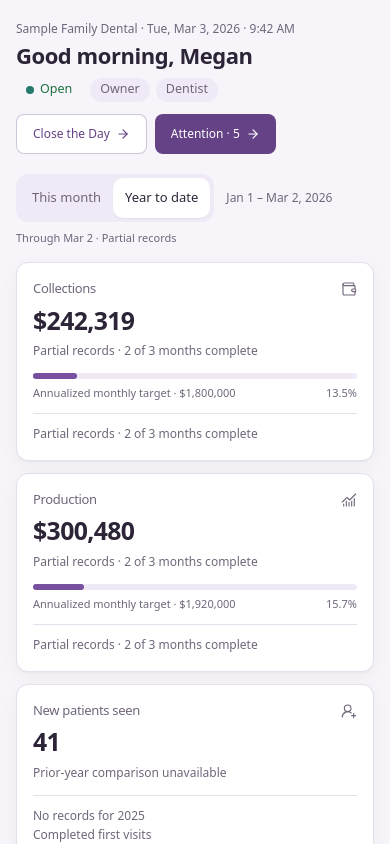
the hierarchy › opens on year to date and switches totals and target to this month
Check: the button "Year to date" is shown, box [113,178,210,218]
Click the button "This month" at point(66, 198), box [20,178,113,218]
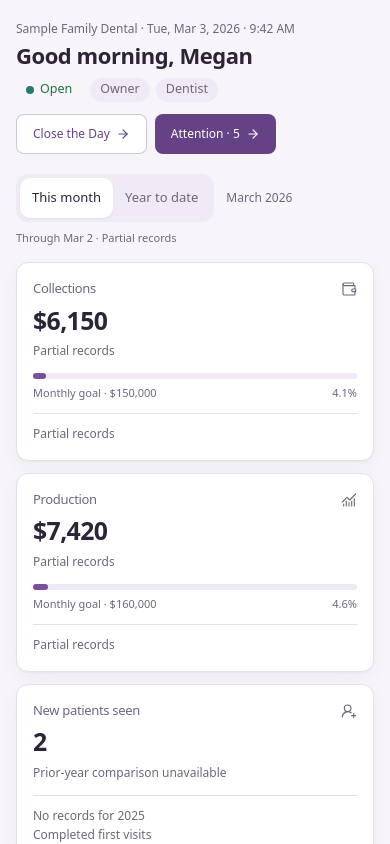
Check: the 1st text "Partial records" is shown, box [33,342,115,360]
Check: the text "$7,420" is shown, box [33,514,107,548]
Check: the text "$6,150" is shown, box [33,302,107,336]
